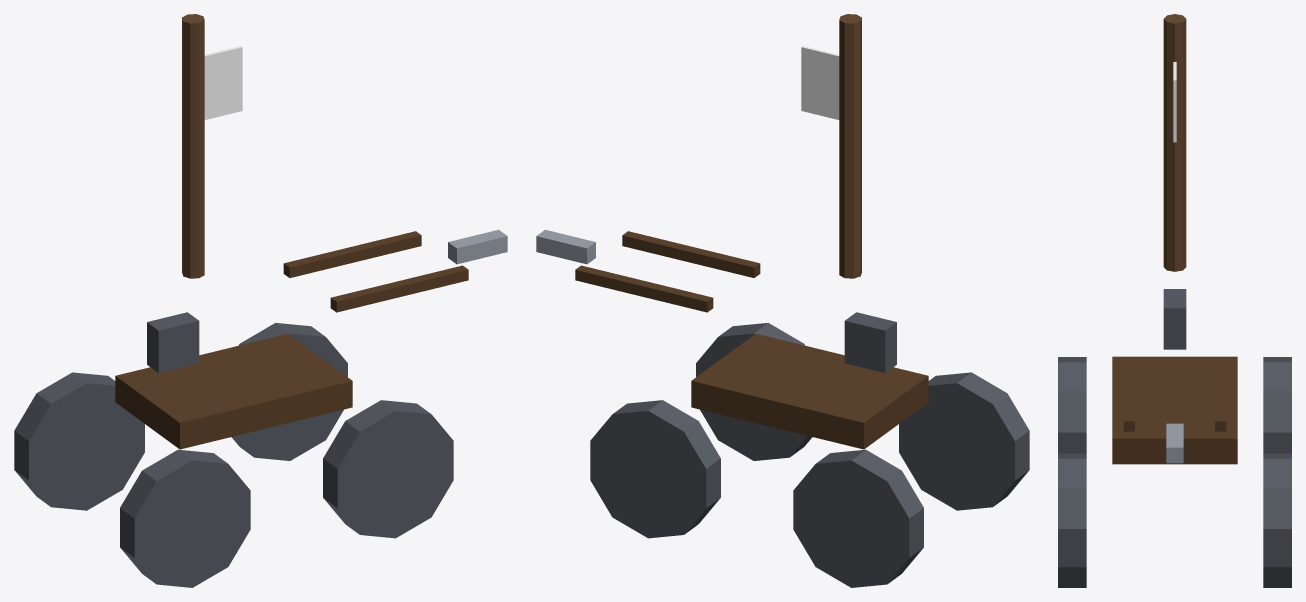
Rendered from vanguard_ballista.glb.
3 renders of one model, left to right at view 1: azimuth 30°, elevation 25°; view 2: azimuth 150°, elevation 25°; view 3: azimuth 270°, elevation 25°, orthographic. The views are drawn at different scales.
Parts seen in each view (by area): view 1: vanguard_ballista; view 2: vanguard_ballista; view 3: vanguard_ballista.
Part boxes in pixels (x1,y1,x2,y2): vanguard_ballista: (14,14,507,587); vanguard_ballista: (536,14,1029,587); vanguard_ballista: (1058,14,1291,587).
Bounding box in the file's own units: 42.21 × 48 × 20.5.
